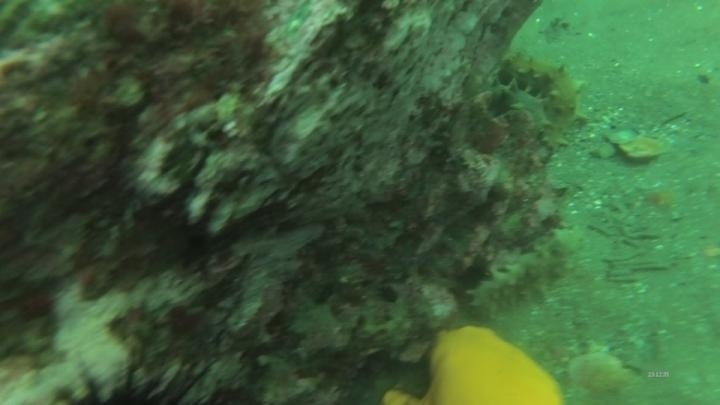holothurian: (465, 227, 585, 320), (499, 49, 589, 152), (496, 74, 560, 148)
